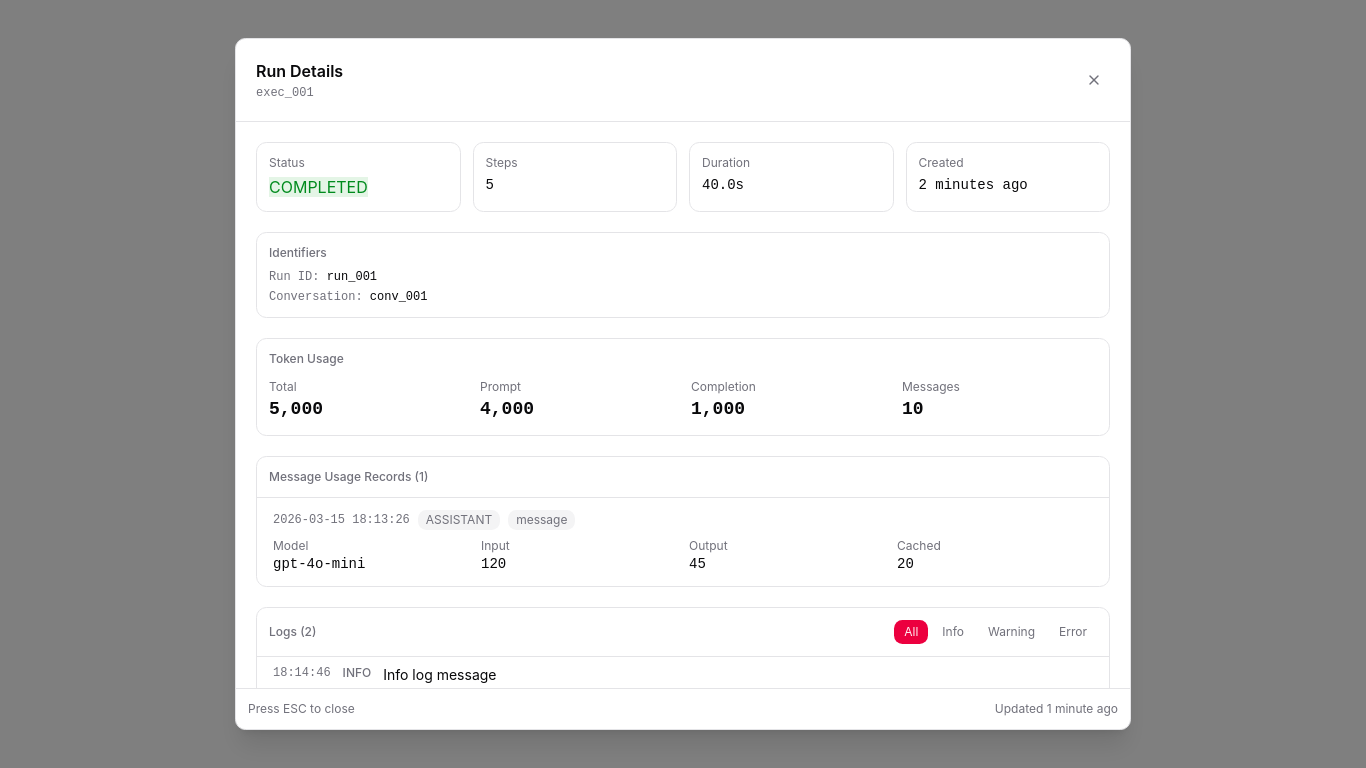
Test case: RunDetail Component › should filter logs by level
Expected: the text "Info log message" is shown, [383,665,496,685]
Step 1. Click the button "Error" → click(1073, 632), box [1049,620,1097,644]
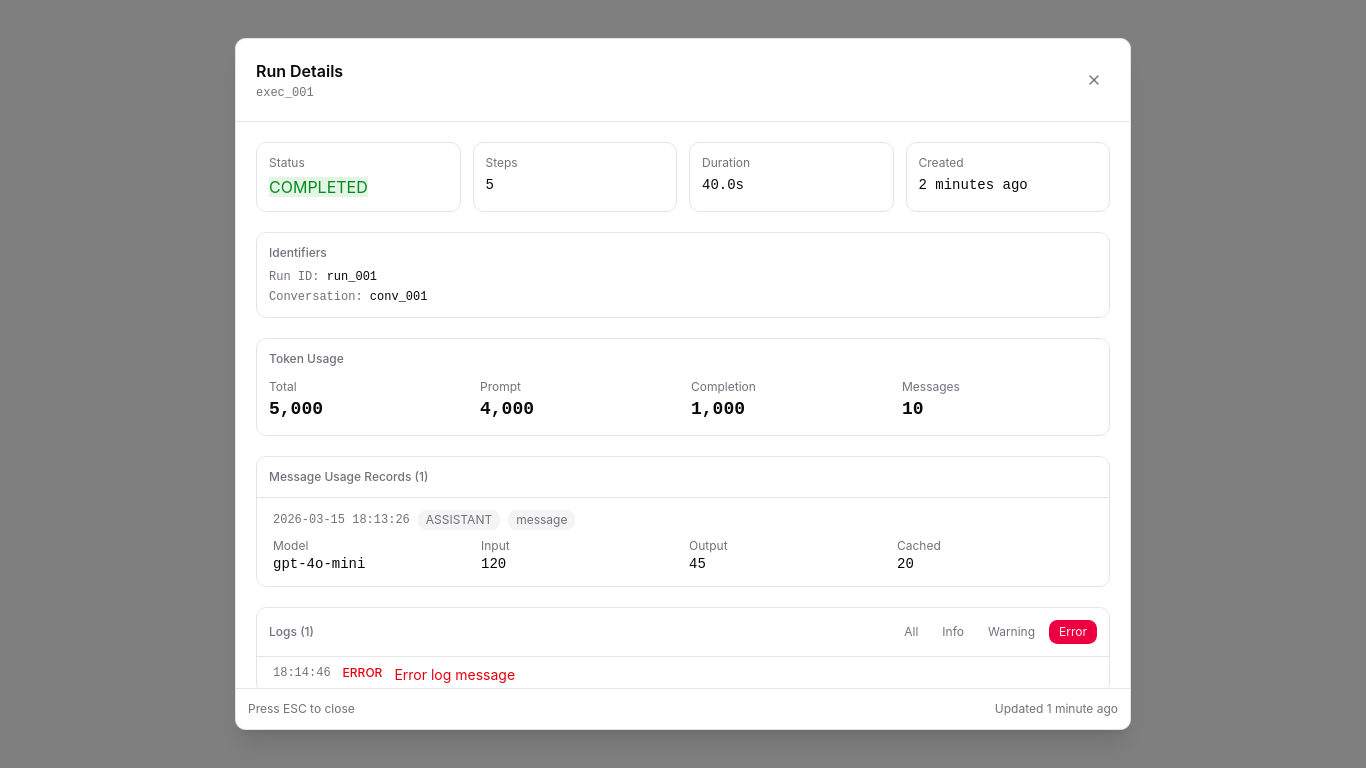
Now the text "Error log message" is shown, box [394,665,515,685]
Now the text "Info log message" is gone
